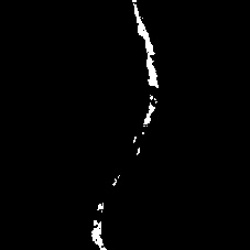crack: (134, 4, 158, 88), (90, 220, 106, 249), (143, 96, 155, 127), (99, 203, 104, 211), (134, 136, 137, 142), (138, 150, 139, 155)
pinhole: (111, 175, 118, 188)
